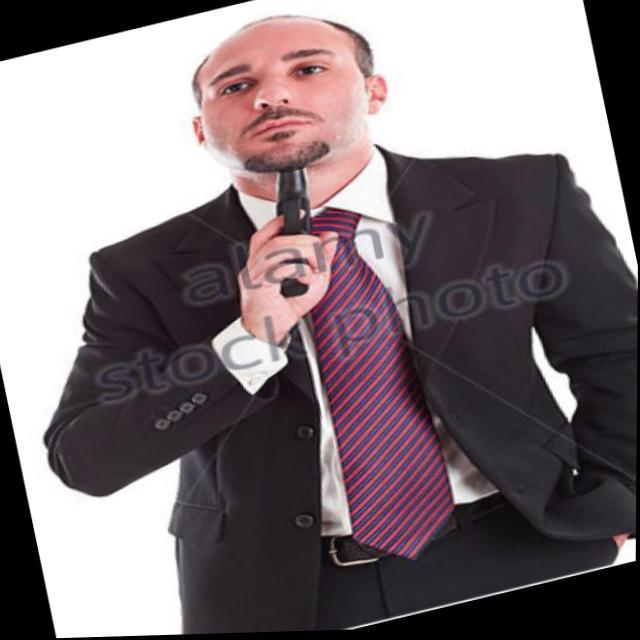weapon: (253, 162, 332, 301)
